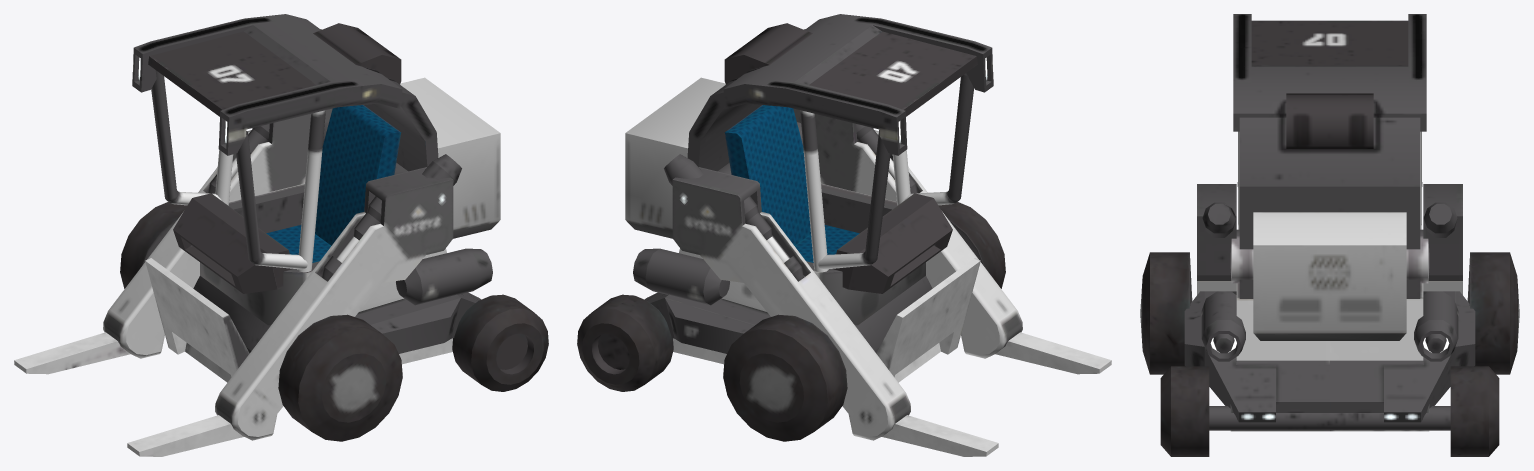
File: Pfb_Forklift.fbx
3 renders of one model, left to right at view 1: azimuth 30°, elevation 25°; view 2: azimuth 150°, elevation 25°; view 3: azimuth 270°, elevation 25°, orthographic.
Parts seen in each view (by area): view 1: Mat_Forklift_01_01 1; view 2: Mat_Forklift_01_01 1; view 3: Mat_Forklift_01_01 1.
Boxes of the visible parts, bbox=[...] form: Mat_Forklift_01_01 1: bbox=[14, 14, 548, 456]; Mat_Forklift_01_01 1: bbox=[577, 14, 1111, 456]; Mat_Forklift_01_01 1: bbox=[1140, 14, 1519, 456].
Size of the model in its own units: 2.92 by 2.23 by 2.42.
1 material, 1 textured.
